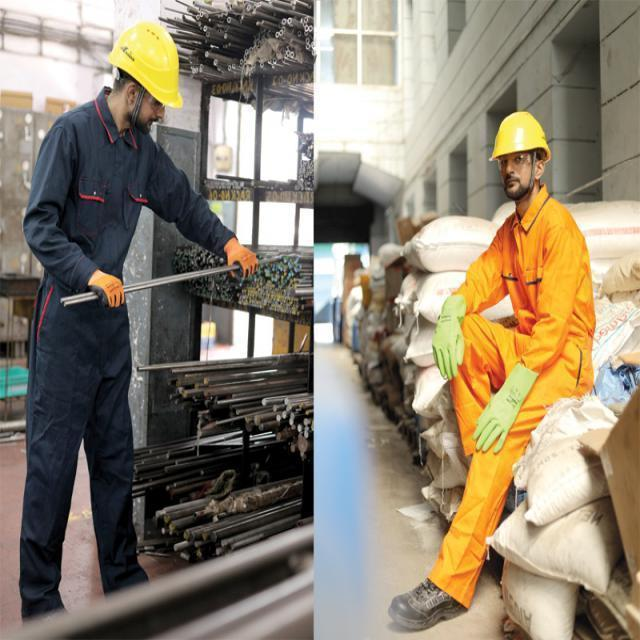gloves: (466, 360, 543, 455), (426, 292, 467, 384), (223, 236, 262, 287), (87, 267, 125, 312)
goggles: (497, 152, 546, 171)
helmet: (101, 12, 193, 115), (481, 106, 558, 171)
